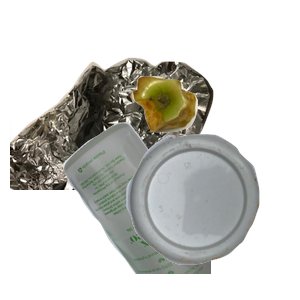glass: (60, 120, 300, 300)
metal: (10, 47, 216, 227)
plastic: (124, 132, 300, 300)
trash: (130, 74, 300, 199)
